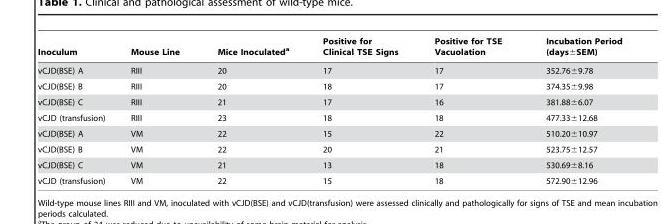table: (37, 36, 621, 185)
table column: (305, 36, 415, 185), (197, 36, 305, 185), (415, 36, 523, 185), (523, 36, 621, 185), (37, 36, 117, 185), (117, 36, 197, 185)
table column header: (37, 36, 621, 60)
table row: (37, 36, 621, 60), (37, 60, 621, 78), (37, 93, 621, 109), (37, 109, 621, 125), (37, 125, 621, 141), (37, 156, 621, 172), (37, 78, 621, 93), (37, 141, 621, 156), (37, 172, 621, 185)
